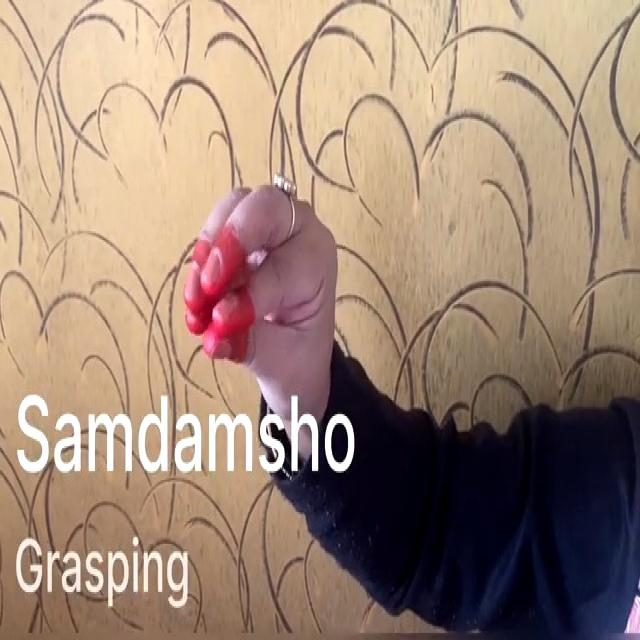Samdamsha: (168, 127, 346, 396)
text: (8, 386, 360, 498), (11, 522, 201, 615)
